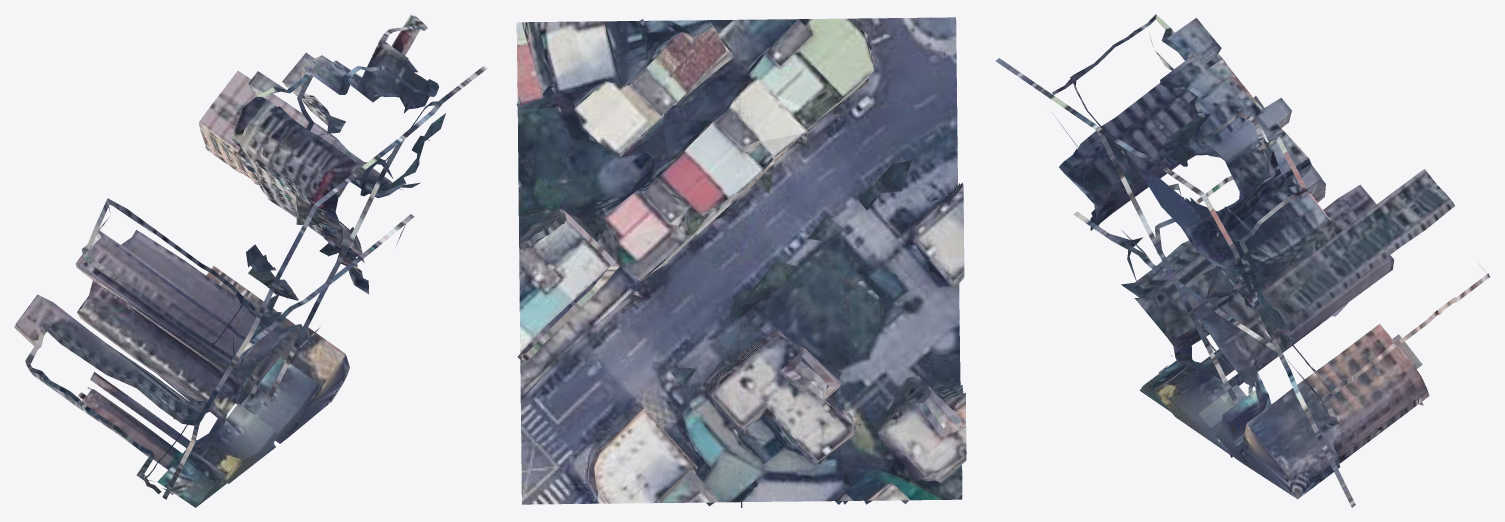
3 views of the same model, side by side, from view 1: azimuth 30°, elevation 25°; view 2: azimuth 150°, elevation 25°; view 3: azimuth 270°, elevation 25° (orthographic). The views are drawn at different scales.
Size of the model in its own units: 92.25 by 83.87 by 88.85.
2 materials, 2 textured.
